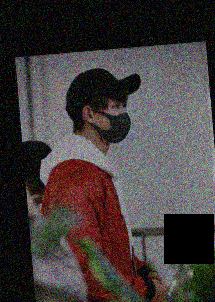with_mask: (97, 101, 131, 145)
